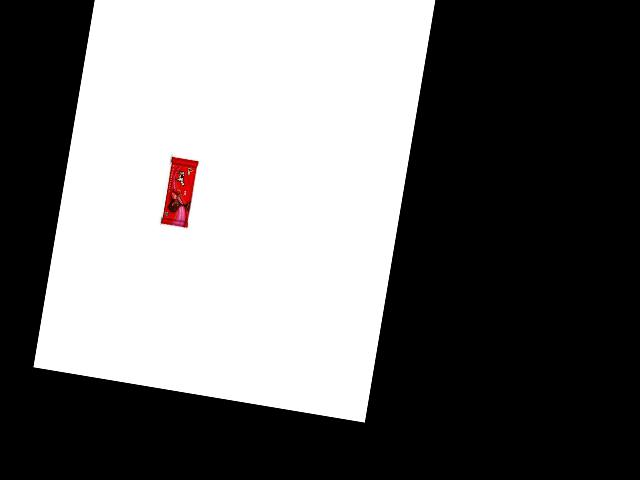chocolate: (156, 150, 199, 228)
